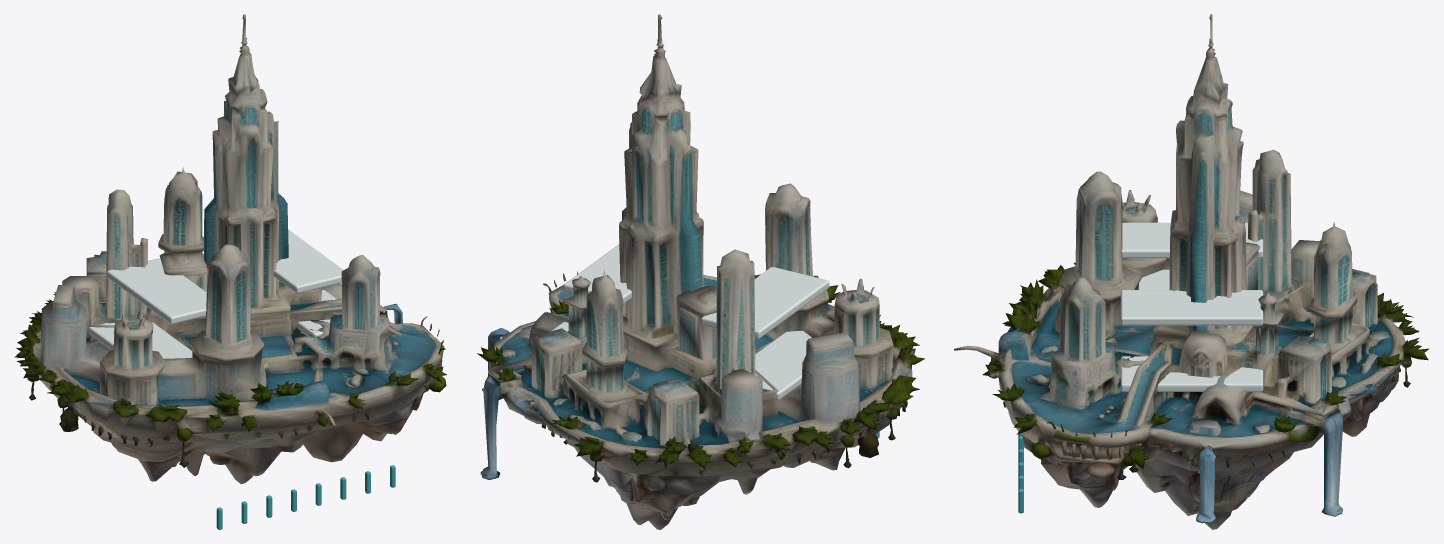
File: sky-citadel-low.glb
3 renders of one model, left to right at view 1: azimuth 30°, elevation 25°; view 2: azimuth 150°, elevation 25°; view 3: azimuth 270°, elevation 25°, orthographic. The views are drawn at different scales.
Parts seen in each view (by area): view 1: Tripo_tripo_node_2d5cb89b-26f1-4fc8-911f-34947eb85bc4, Terrace cornice, Harbor bollard; view 2: Tripo_tripo_node_2d5cb89b-26f1-4fc8-911f-34947eb85bc4, Terrace cornice; view 3: Tripo_tripo_node_2d5cb89b-26f1-4fc8-911f-34947eb85bc4, Terrace cornice.
Boxes of the visible parts, <box> form: Tripo_tripo_node_2d5cb89b-26f1-4fc8-911f-34947eb85bc4: <box>14,14,446,484</box>; Terrace cornice: <box>89,229,343,358</box>; Harbor bollard: <box>216,465,395,529</box>; Tripo_tripo_node_2d5cb89b-26f1-4fc8-911f-34947eb85bc4: <box>477,14,924,529</box>; Terrace cornice: <box>551,244,829,400</box>; Tripo_tripo_node_2d5cb89b-26f1-4fc8-911f-34947eb85bc4: <box>954,14,1429,529</box>; Terrace cornice: <box>1120,222,1263,391</box>.
Bounding box in the file's own units: 0.8356 × 1 × 0.8356.
3 materials, 1 textured.
